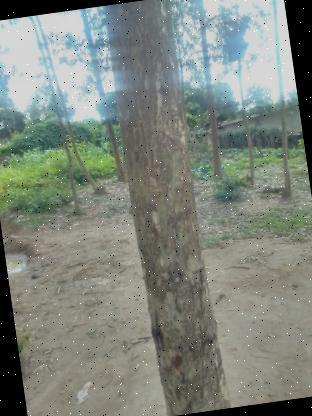tree: (94, 0, 248, 416)
